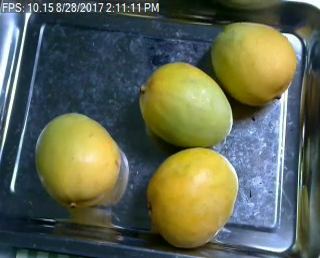Mango: (147, 146, 236, 246), (35, 113, 122, 209), (142, 63, 234, 148), (211, 21, 295, 103)
